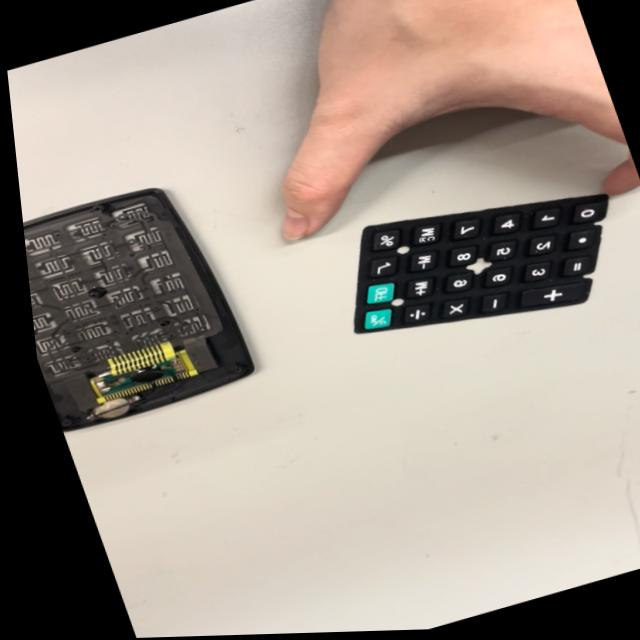front_panel: (18, 166, 282, 441)
number_pad: (299, 156, 640, 373)
